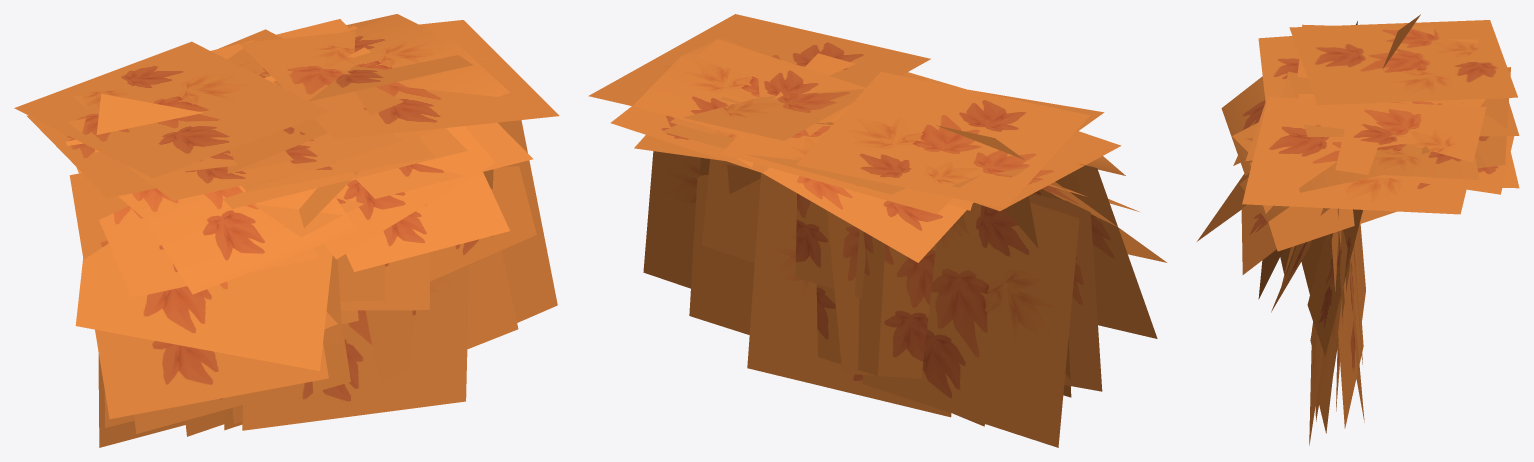
Rendered from SM_Env_Vines_02.fbx.
The picture shows the model from 3 angles, left to right: view 1: azimuth 30°, elevation 25°; view 2: azimuth 150°, elevation 25°; view 3: azimuth 270°, elevation 25°; orthographic projection. The views are drawn at different scales.
Parts seen in each view (by area): view 1: SM_Env_Vines_02_LOD0; view 2: SM_Env_Vines_02_LOD0; view 3: SM_Env_Vines_02_LOD0.
Boxes of the visible parts, bbox=[...] form: SM_Env_Vines_02_LOD0: bbox=[14, 14, 559, 447]; SM_Env_Vines_02_LOD0: bbox=[588, 14, 1167, 447]; SM_Env_Vines_02_LOD0: bbox=[1197, 14, 1519, 445].
Size of what is drawn, in the model's own units: 441 by 282 by 274.
